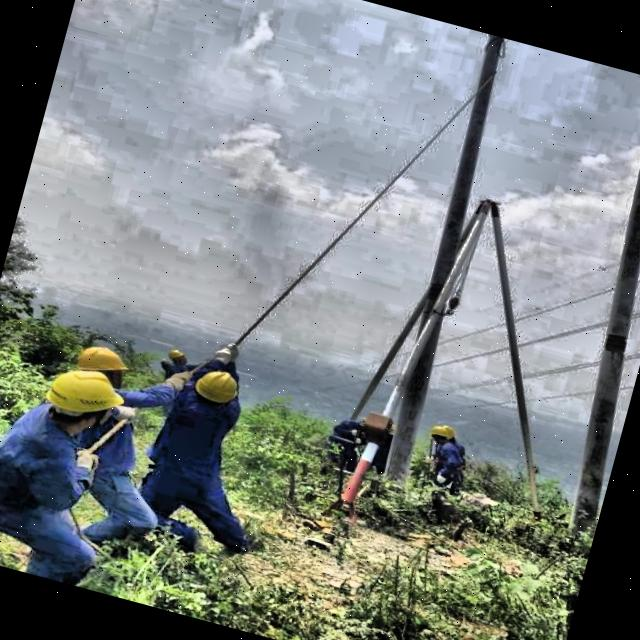helmet: (42, 363, 122, 433), (66, 330, 137, 388), (183, 362, 250, 418), (160, 341, 200, 375), (420, 418, 461, 451)
